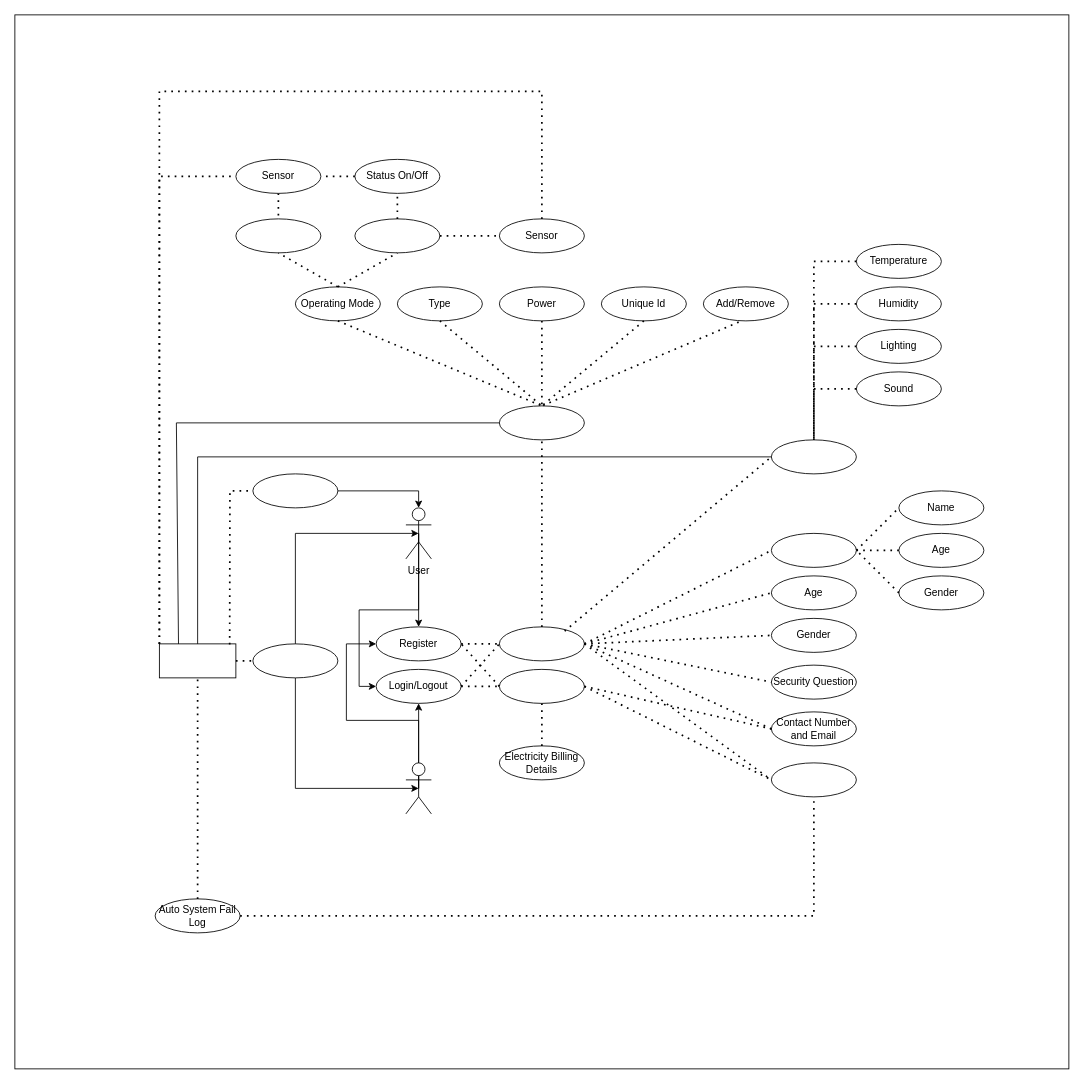
The diagram is 1084 pixels wide and 1084 high, and some of its shapes have lost their labels. Here are the shapes that lost their labels. From the top down, the centre of each, then its label:
the point at 278,235: Automatic
the point at 397,235: Manaul
the point at 541,422: Appliances Information
the point at 813,456: Env. Comfort Range
the point at 295,490: Notify User about general event
the point at 813,550: Personal Details
the point at 197,660: Sensor Management System
the point at 295,660: Emergency SMS/Call Alert
the point at 541,643: As User
the point at 541,686: As Admin
the point at 418,788: System Admin
the point at 813,779: Complaint and Feedback
